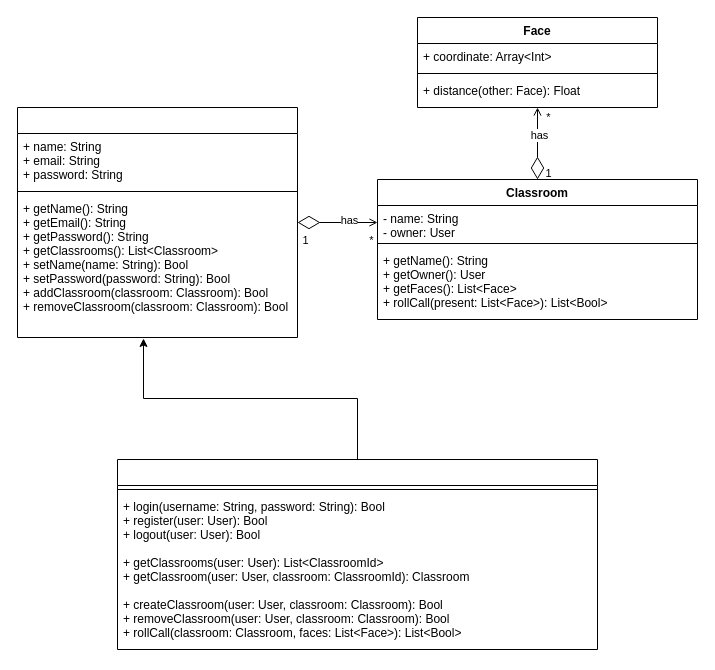
Some shapes in this 715 by 670 pixel diagram are drawn without their labels. The box of each missing label's shape, as (x1, y1, x2, y2) in pixels:
API: (116, 458, 598, 650)
User: (16, 106, 298, 338)
